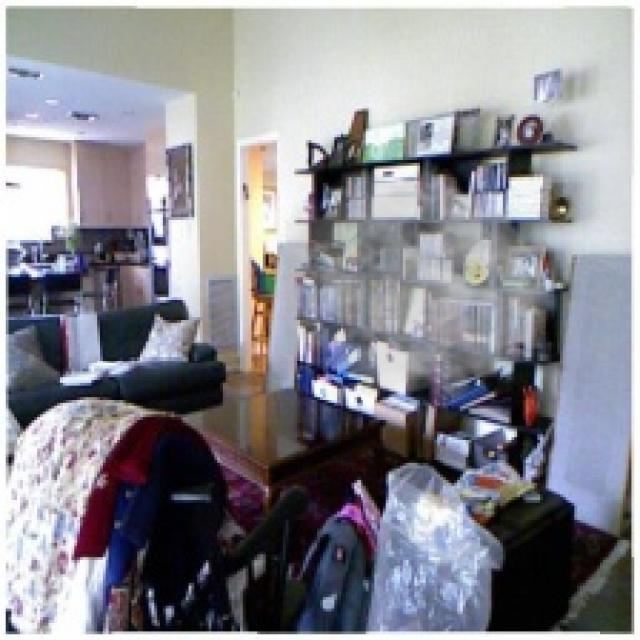Smoke: (286, 160, 554, 406)
